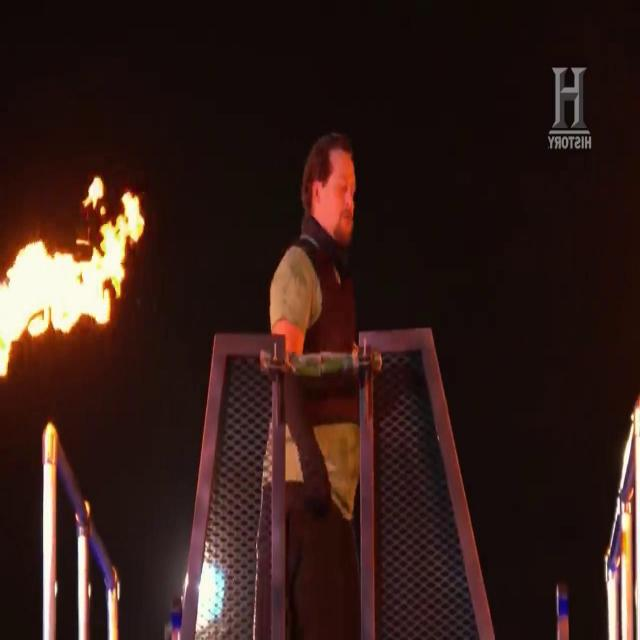fire: (1, 176, 148, 385)
